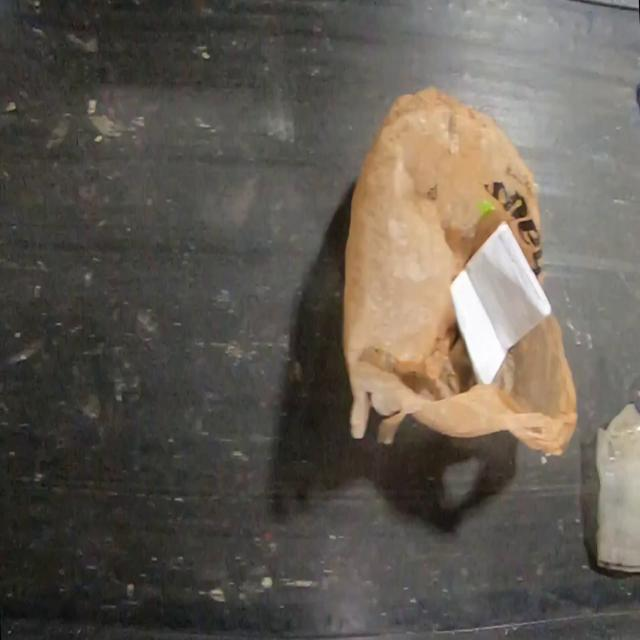rigid_plastic: (594, 404, 640, 574)
soft_plastic: (342, 85, 578, 459)
